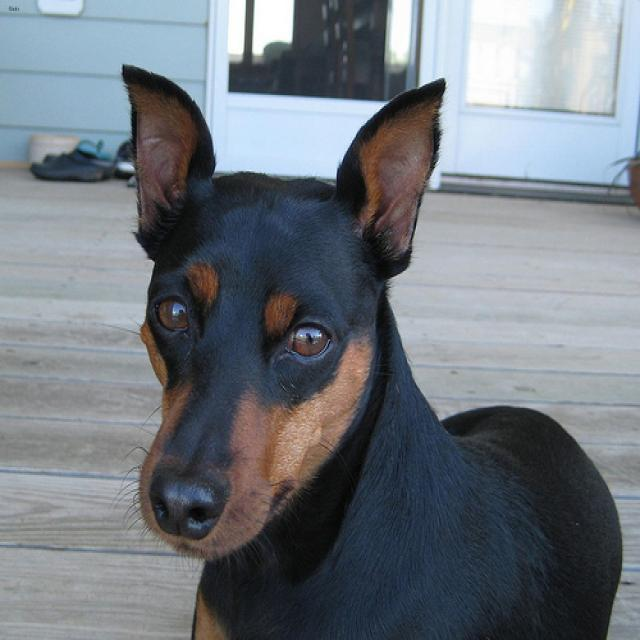dog-miniature_pinscher: (110, 53, 628, 637)
